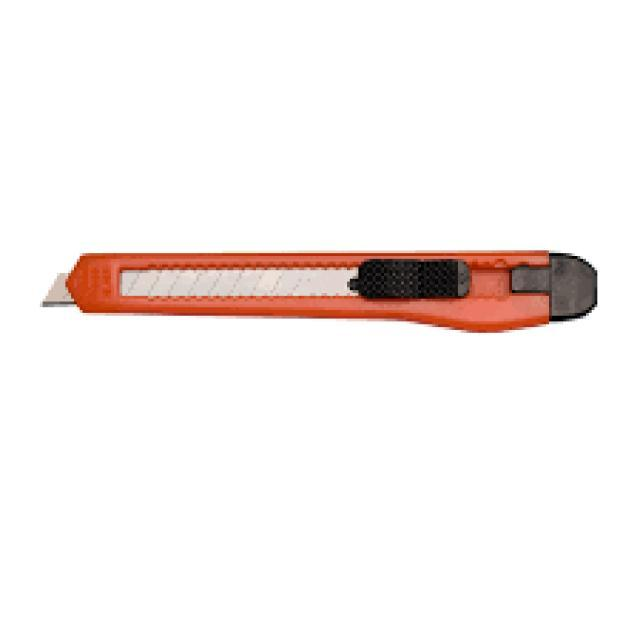cutter: (34, 246, 596, 340)
